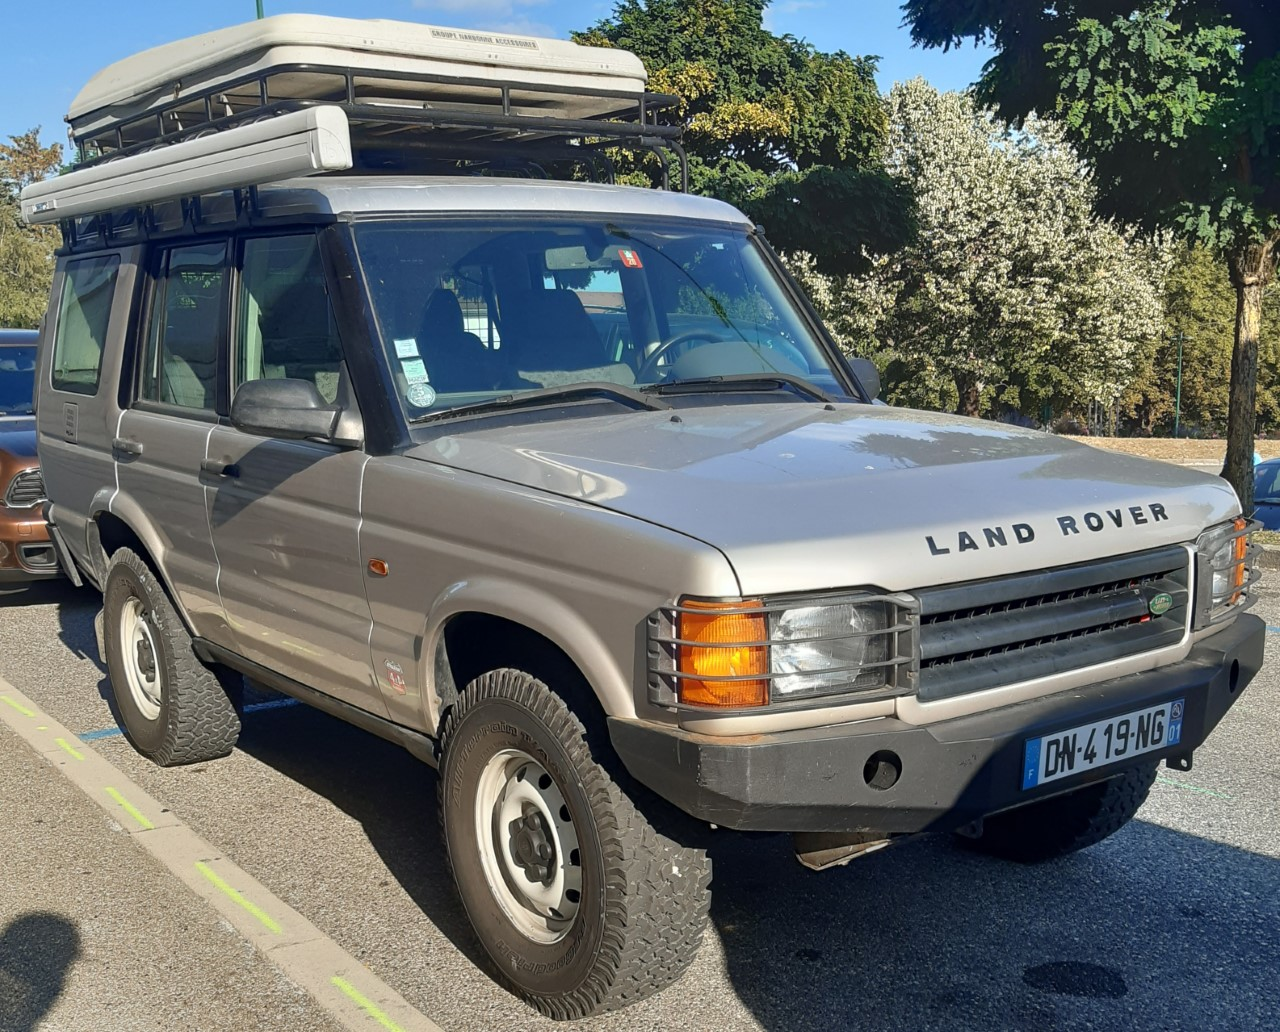licence plate: (1020, 695, 1193, 790)
